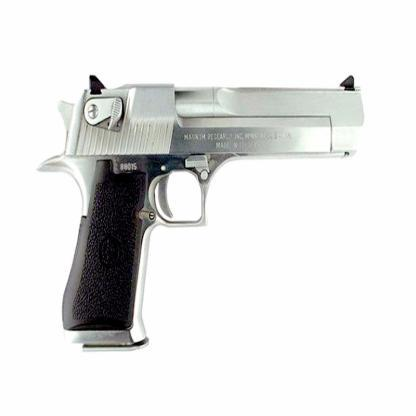Pistol: (35, 74, 366, 354)
